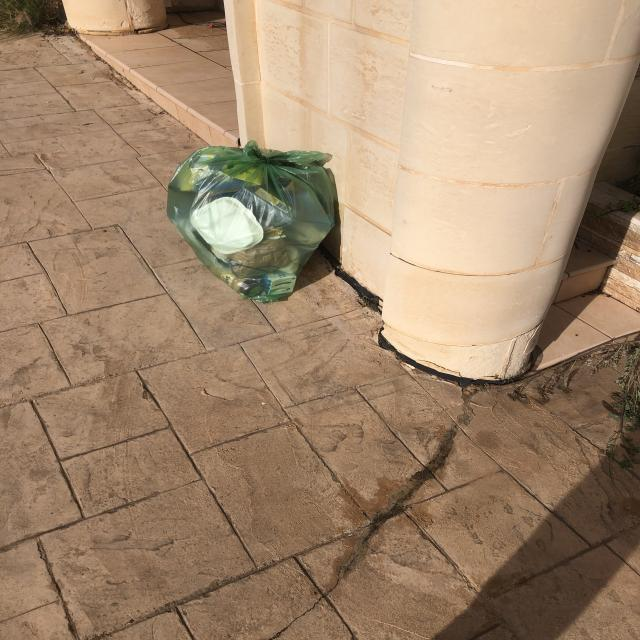Recycled Waste -Grey or Green Bag-: (166, 142, 331, 301)
